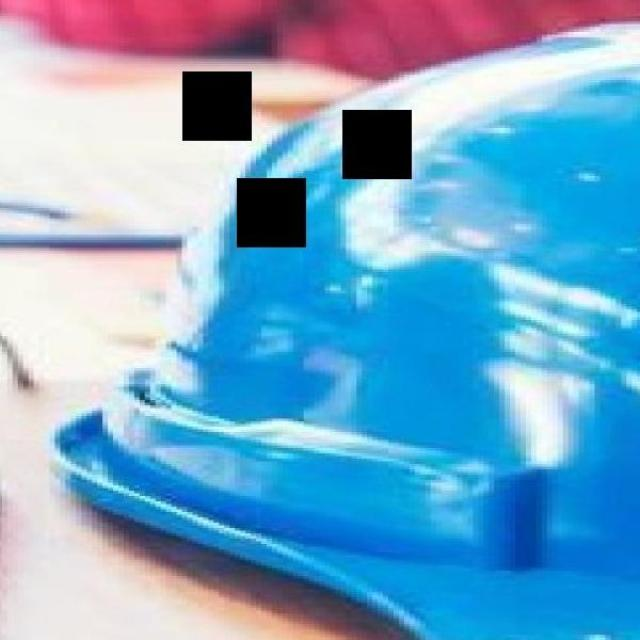blue helmet: (38, 1, 640, 640)
